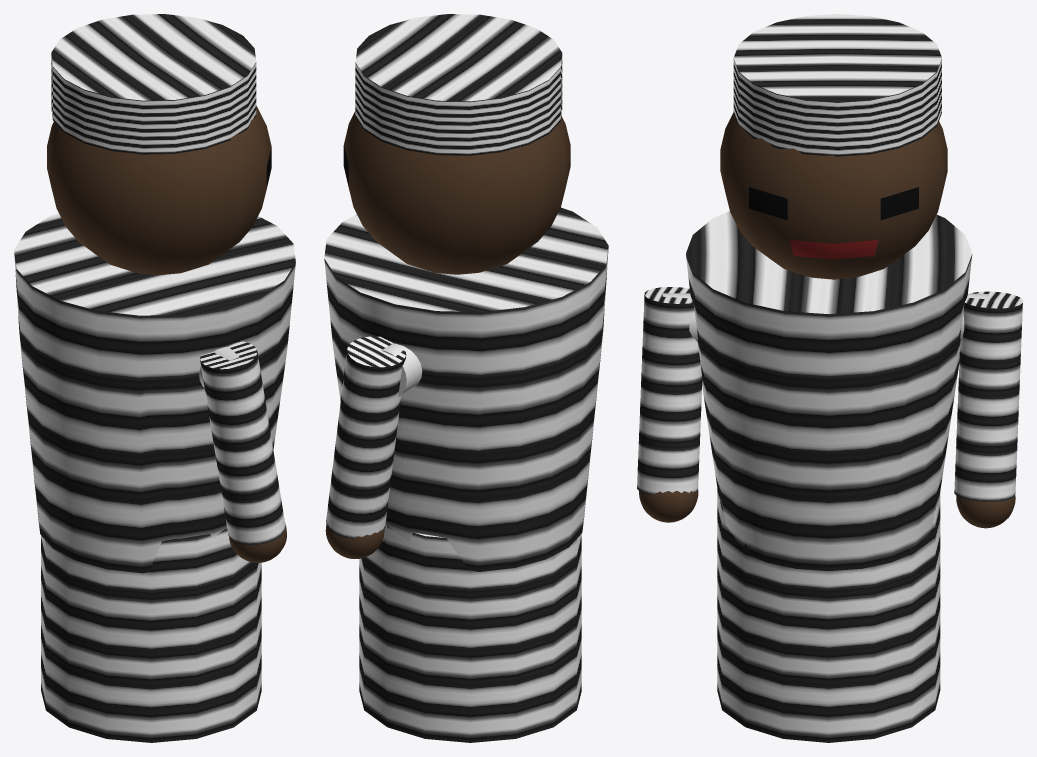
File: SpielfigurNEU.fbx
3 views of the same model, side by side, from view 1: azimuth 30°, elevation 25°; view 2: azimuth 150°, elevation 25°; view 3: azimuth 270°, elevation 25° (orthographic).
Parts seen in each view (by area): view 1: pCylinder4, pCylinder8, Spielfigur:pCylinder4, pSphere2, pasted__pCylinder5, pSphere3; view 2: pCylinder4, pCylinder8, Spielfigur:pCylinder4, pSphere2, pasted__pCylinder7, pSphere4, pasted__pasted__pCylinder6; view 3: pCylinder4, pCylinder8, Spielfigur:pCylinder4, pSphere2, pasted__pCylinder7, pasted__pCylinder5, pSphere3, pSphere4.
Boxes of the visible parts, <box> form: pCylinder4: <box>14,213,295,573</box>; pCylinder8: <box>41,528,261,742</box>; Spielfigur:pCylinder4: <box>51,14,256,154</box>; pSphere2: <box>47,106,271,275</box>; pasted__pCylinder5: <box>200,341,285,545</box>; pSphere3: <box>229,523,286,562</box>; pCylinder4: <box>324,207,608,571</box>; pCylinder8: <box>359,525,581,742</box>; Spielfigur:pCylinder4: <box>355,14,562,155</box>; pSphere2: <box>343,111,570,274</box>; pasted__pCylinder7: <box>326,336,406,539</box>; pSphere4: <box>325,525,384,558</box>; pasted__pasted__pCylinder6: <box>381,343,422,396</box>; pCylinder4: <box>686,211,972,570</box>; pCylinder8: <box>717,489,940,742</box>; Spielfigur:pCylinder4: <box>733,14,941,156</box>; pSphere2: <box>720,112,947,279</box>; pasted__pCylinder7: <box>954,291,1022,501</box>; pasted__pCylinder5: <box>637,287,702,494</box>; pSphere3: <box>639,490,698,522</box>; pSphere4: <box>956,495,1015,528</box>.
Size of the model in its own units: 4.29 by 10.59 by 5.78.
Materials: 5 (1 with a texture image).
